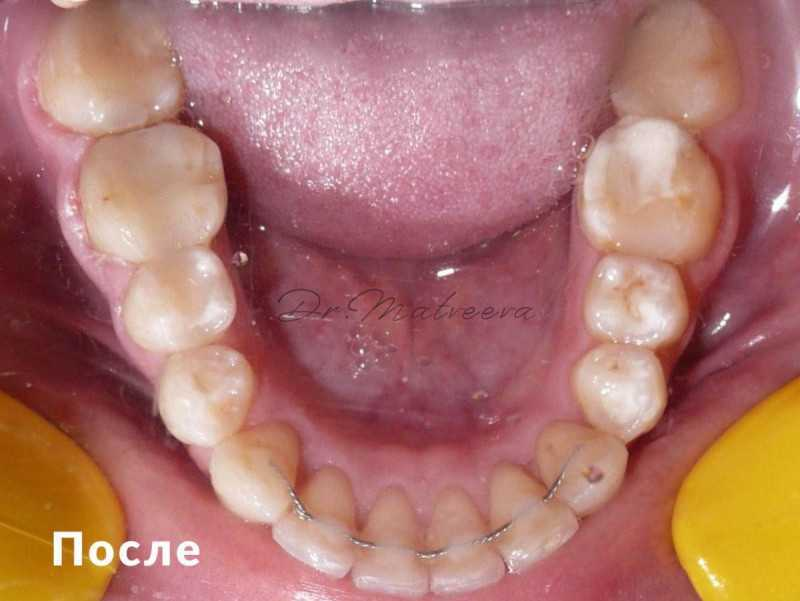LL1BC_decay: (572, 341, 668, 446)
LL1M_healthy: (584, 114, 724, 262)
LL2BC_decay: (583, 257, 689, 347)
LL2M_healthy: (611, 9, 741, 128)
LLCI_decay: (425, 481, 507, 598)
LLC_decay: (534, 416, 628, 522)
LLLI_decay: (487, 465, 581, 578)
LR1BC_healthy: (156, 346, 257, 446)
LR1M_decay: (78, 122, 229, 265)
LR2BC_healthy: (122, 247, 239, 354)
LR2M_healthy: (34, 3, 187, 137)
LRCI_decay: (352, 488, 429, 599)
LRC_decay: (209, 422, 300, 522)
LRLI_decay: (274, 466, 356, 580)
